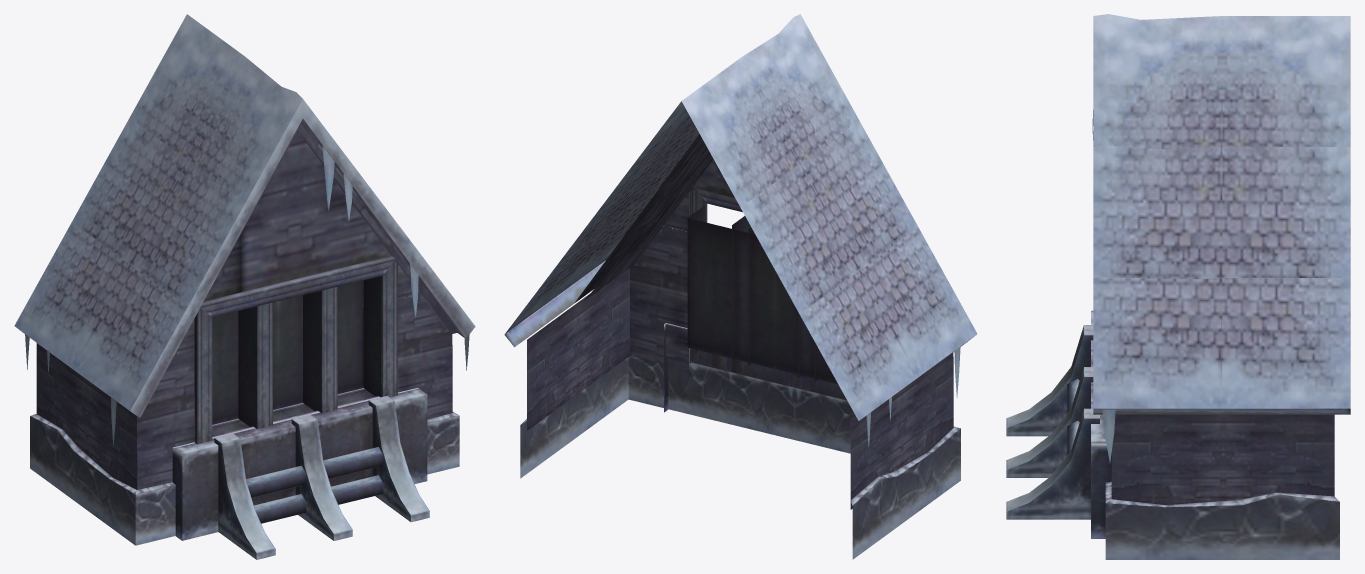
Rendered from yw_wanglingzhita_fangwu03.FBX.
3 renders of one model, left to right at view 1: azimuth 30°, elevation 25°; view 2: azimuth 150°, elevation 25°; view 3: azimuth 270°, elevation 25°, orthographic. The views are drawn at different scales.
Parts seen in each view (by area): view 1: yw_wanglingzhita_fangwu03; view 2: yw_wanglingzhita_fangwu03; view 3: yw_wanglingzhita_fangwu03.
Boxes of the visible parts, <box> form: yw_wanglingzhita_fangwu03: <box>14,14,475,559</box>; yw_wanglingzhita_fangwu03: <box>504,14,977,559</box>; yw_wanglingzhita_fangwu03: <box>1006,14,1350,559</box>.
Bounding box in the file's own units: 668 × 764 × 520.
